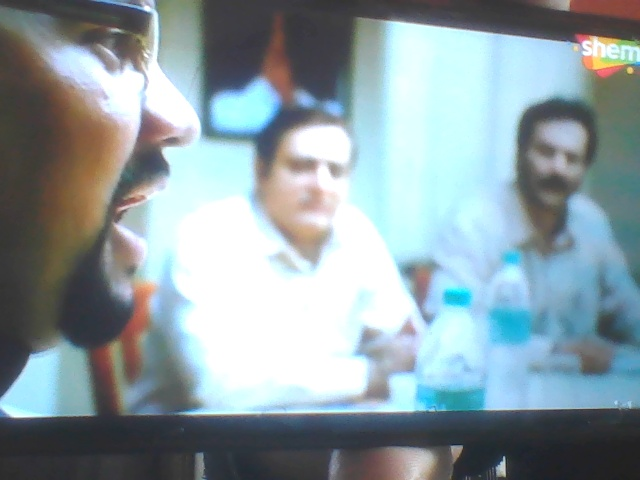fake: (252, 92, 363, 250)
